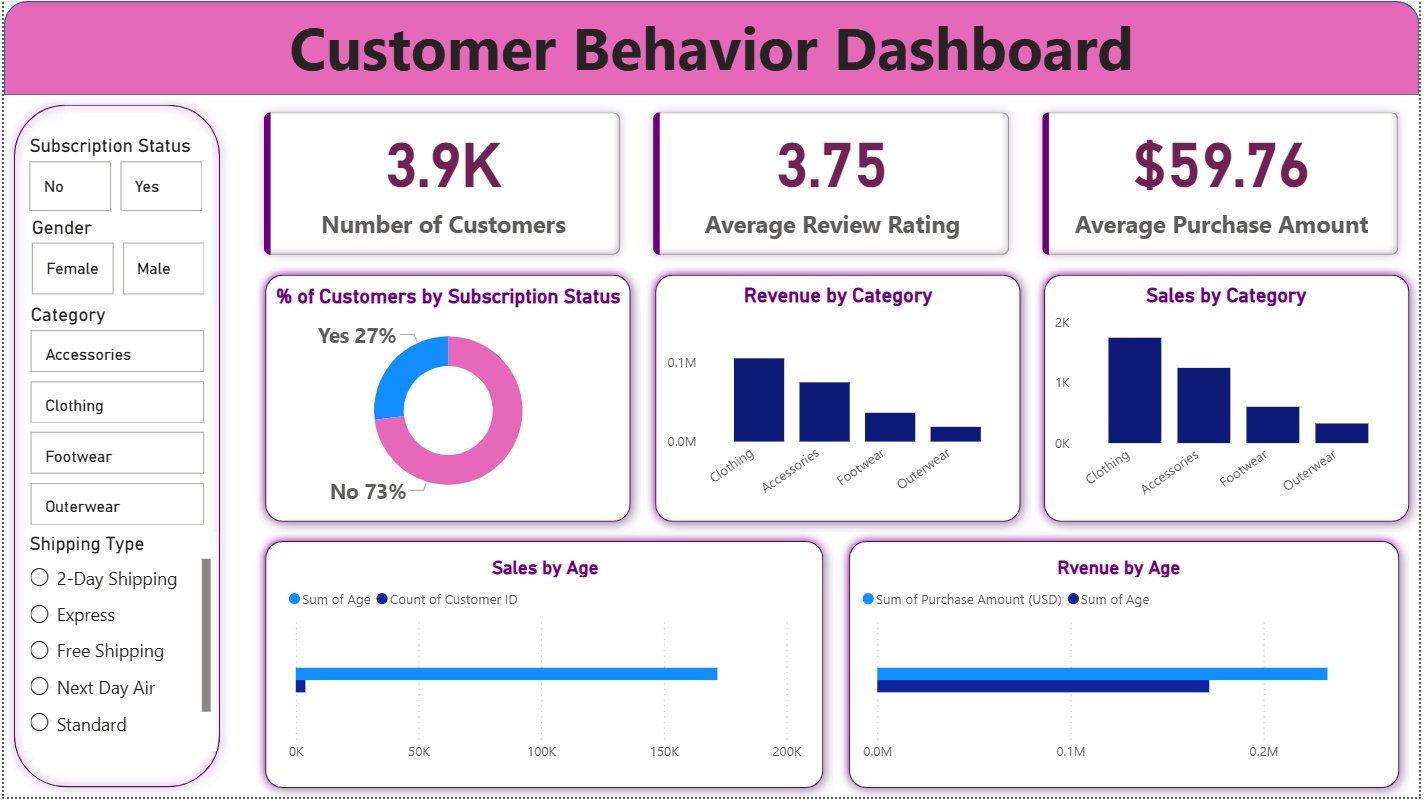

This screenshot's page, from the dashboard's own definition file:
{"tool":"powerbi","page":{"name":"Page 1","canvas":[1280,720],"ordinal":0},"visuals":[{"type":"cardVisual","fields":{"Data":["public customer.Number of Customers","public customer.Average Review Rating","public customer.Average Purchase Amount"]},"box":[219.6,85.1,1060.7,161.9],"z":0},{"type":"shape","box":[0,0,1280.3,85.1],"z":1000},{"type":"textbox","box":[0,0,1280.3,85.1],"z":2000},{"type":"shape","box":[931.7,238.8,348.5,241.5],"z":3000},{"type":"shape","box":[579.8,238.8,348.5,241.5],"z":4000},{"type":"shape","box":[227.8,238.8,348.5,241.5],"z":5000},{"type":"donutChart","title":"% of Customers by Subscription Status","fields":{"Category":["public customer.Subscription Status"],"Y":["CountNonNull(public customer.Customer ID)"]},"box":[241,257.2,322.5,207.2],"z":6000},{"type":"clusteredColumnChart","title":"Revenue by Category","fields":{"Y":["Sum(public customer.Purchase Amount (USD))"],"Category":["public customer.Category"]},"box":[594.2,255.2,319.7,207.2],"z":7000},{"type":"clusteredColumnChart","title":"Sales by Category","fields":{"Y":["CountNonNull(public customer.Customer ID)"],"Category":["public customer.Category"]},"box":[945.5,255.2,321.1,208.6],"z":8000},{"type":"shape","box":[0,85.1,204.5,635.3],"z":9000},{"type":"advancedSlicerVisual","fields":{"Values":["public customer.Subscription Status"]},"box":[19.2,122.1,168.8,72.7],"z":10000},{"type":"advancedSlicerVisual","fields":{"Values":["public customer.Gender"]},"box":[20.6,194.9,167.4,76.8],"z":11000},{"type":"advancedSlicerVisual","fields":{"Values":["public customer.Category"]},"box":[19.2,273.1,167.4,207.2],"z":12000},{"type":"listSlicer","fields":{"Values":["public customer.Shipping Type"]},"box":[17.8,480.3,174.3,197.6],"z":13000},{"type":"advancedSlicerVisual","fields":{"Values":["public customer.Subscription Status"]},"box":[18.1,121,168.5,73.5],"z":14000},{"type":"shape","box":[754.7,478.9,516,241.5],"z":15000},{"type":"shape","box":[227.8,478.9,522.8,241.5],"z":16000},{"type":"clusteredBarChart","title":"Rvenue by Age","fields":{"Y":["Sum(public customer.Purchase Amount (USD))","Sum(public customer.Age)"]},"box":[771.2,502.2,474.8,194.9],"z":17000},{"type":"clusteredBarChart","title":"Sales by Age","fields":{"Y":["Sum(public customer.Age)","CountNonNull(public customer.Customer ID)"]},"box":[252.5,502.2,474.8,194.9],"z":18000}]}

Visuals, with their boxes in screenshot pixels (x1, y1, x2, y2), scaled from the page's 1280x720 canvas onto the 1424x800 screenshot:
cardVisual - public customer.Number of Customers x public customer.Average Review Rating: l=244, t=95, r=1423, b=274
shape: l=0, t=0, r=1423, b=95
textbox: l=0, t=0, r=1423, b=95
shape: l=1037, t=265, r=1423, b=534
shape: l=645, t=265, r=1033, b=534
shape: l=253, t=265, r=641, b=534
"% of Customers by Subscription Status" donutChart: l=268, t=286, r=627, b=516
"Revenue by Category" clusteredColumnChart: l=661, t=284, r=1017, b=514
"Sales by Category" clusteredColumnChart: l=1052, t=284, r=1409, b=515
shape: l=0, t=95, r=228, b=799
advancedSlicerVisual - public customer.Subscription Status: l=21, t=136, r=209, b=216
advancedSlicerVisual - public customer.Gender: l=23, t=217, r=209, b=302
advancedSlicerVisual - public customer.Category: l=21, t=303, r=208, b=534
listSlicer - public customer.Shipping Type: l=20, t=534, r=214, b=753
advancedSlicerVisual - public customer.Subscription Status: l=20, t=134, r=208, b=216
shape: l=840, t=532, r=1414, b=799
shape: l=253, t=532, r=835, b=799
"Rvenue by Age" clusteredBarChart: l=858, t=558, r=1386, b=775
"Sales by Age" clusteredBarChart: l=281, t=558, r=809, b=775
